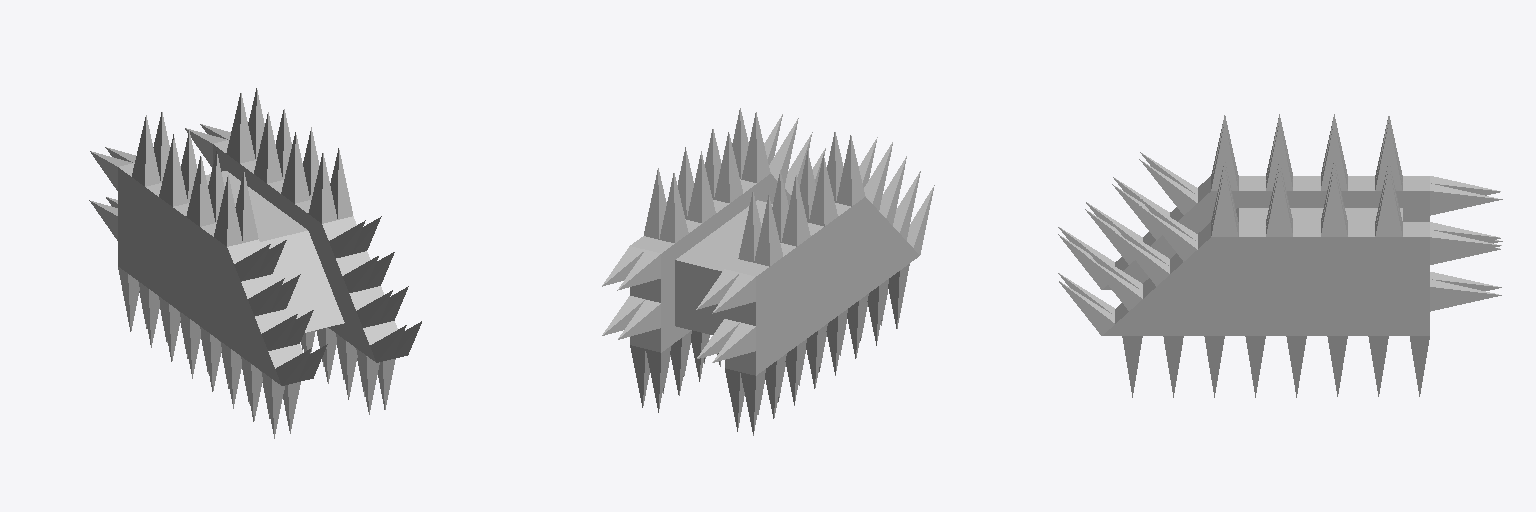
Rendered from tank1.obj.
3 views of the same model, side by side, from view 1: azimuth 30°, elevation 25°; view 2: azimuth 150°, elevation 25°; view 3: azimuth 270°, elevation 25° (orthographic).
Parts seen in each view (by area): view 1: Cube; view 2: Cube; view 3: Cube.
Boxes of the visible parts, <box> form: Cube: <box>89,88,421,438</box>; Cube: <box>602,108,934,435</box>; Cube: <box>1058,114,1502,397</box>.
Size of the model in its own units: 4 by 7 by 12.23.